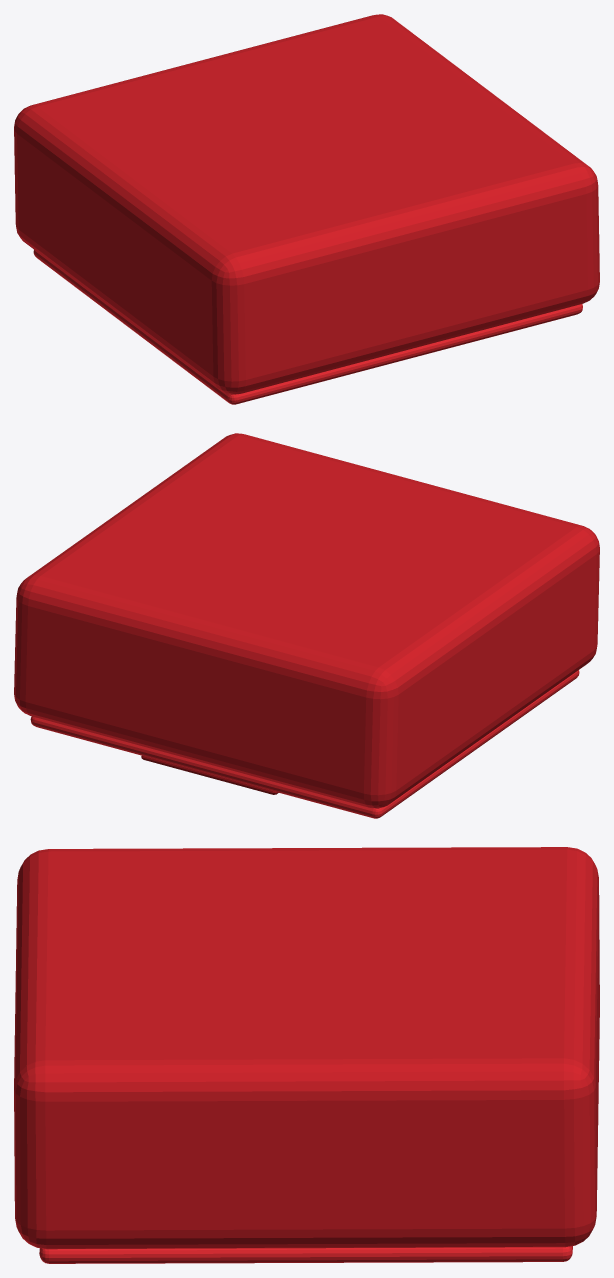
File: urgence4.glb
3 views of the same model, one above another, from view 1: azimuth 30°, elevation 25°; view 2: azimuth 150°, elevation 25°; view 3: azimuth 270°, elevation 25° (orthographic). The views are drawn at different scales.
Parts seen in each view (by area): view 1: 01_Boitier_principal, 02_Coque_facade; view 2: 01_Boitier_principal, 02_Coque_facade, 30_Recess_pictogramme; view 3: 01_Boitier_principal, 02_Coque_facade.
Part boxes in pixels (box(x1,y1,x2,y2)): 01_Boitier_principal: box(14, 14, 599, 394); 02_Coque_facade: box(33, 250, 582, 404); 01_Boitier_principal: box(14, 433, 599, 808); 02_Coque_facade: box(30, 670, 579, 818); 30_Recess_pictogramme: box(141, 755, 278, 794); 01_Boitier_principal: box(14, 847, 599, 1249); 02_Coque_facade: box(39, 1246, 572, 1263).
Bounding box in the file's own units: 0.1213 × 0.0562 × 0.1209.
